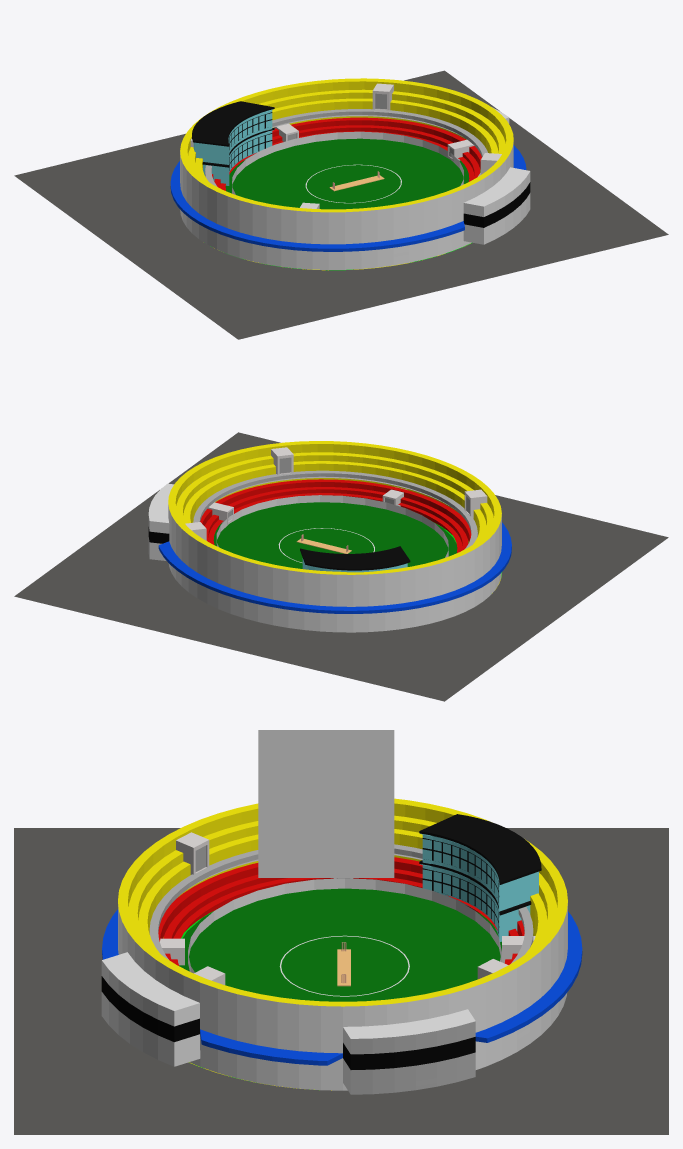
The model's file is cricket_stadium.glb.
The picture shows the model from 3 angles, top to bottom: view 1: azimuth 30°, elevation 25°; view 2: azimuth 150°, elevation 25°; view 3: azimuth 270°, elevation 25°; orthographic projection. The views are drawn at different scales.
Visible parts, largest first — view 1: Stadium; view 2: Stadium; view 3: Stadium, playerImage.
Part boxes in pixels (x1,y1,x2,y2): Stadium: [14, 70, 668, 339]; Stadium: [14, 432, 668, 701]; Stadium: [14, 798, 668, 1134]; playerImage: [258, 730, 394, 877].
Size of the model in its own units: 19.44 by 7.59 by 17.54.
